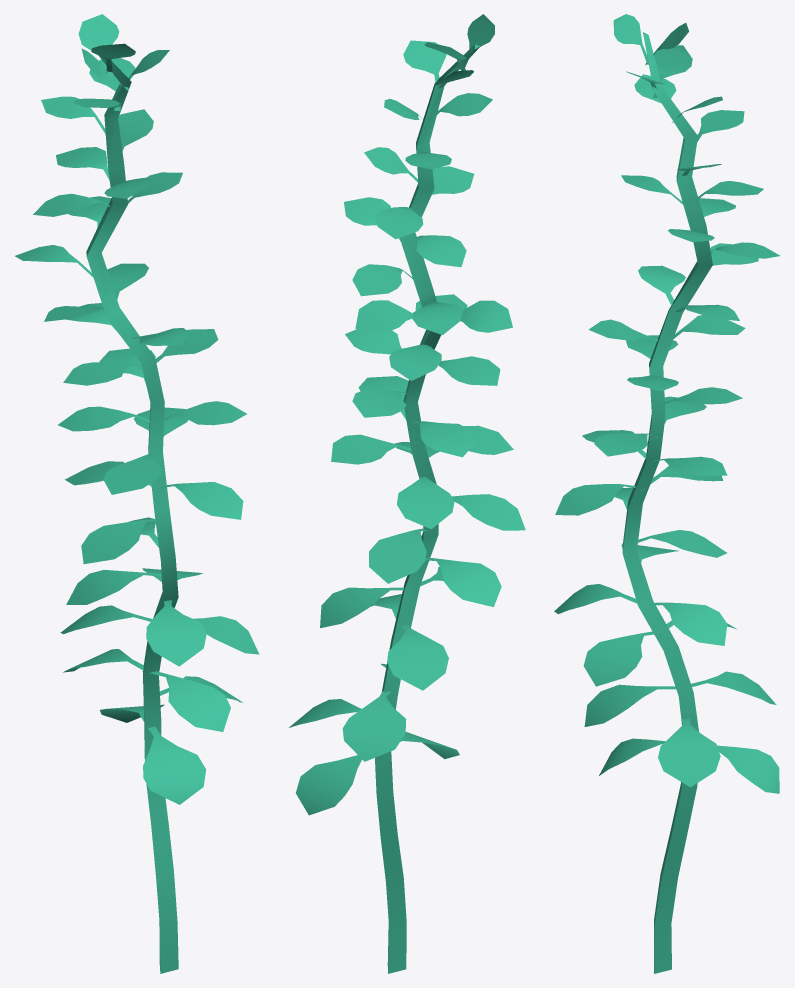
Rendered from coral_rubber_plant_B.fbx.
The picture shows the model from 3 angles, left to right: view 1: azimuth 30°, elevation 25°; view 2: azimuth 150°, elevation 25°; view 3: azimuth 270°, elevation 25°; orthographic projection. The views are drawn at different scales.
Visible parts, largest first — view 1: coral_rubber_plant_B; view 2: coral_rubber_plant_B; view 3: coral_rubber_plant_B.
Boxes of the visible parts, left/top/right/bottom form: coral_rubber_plant_B: left=15, top=14, right=259, bottom=973; coral_rubber_plant_B: left=289, top=14, right=525, bottom=973; coral_rubber_plant_B: left=554, top=14, right=780, bottom=973.
Size of the model in its own units: 27.68 by 121 by 27.01.
